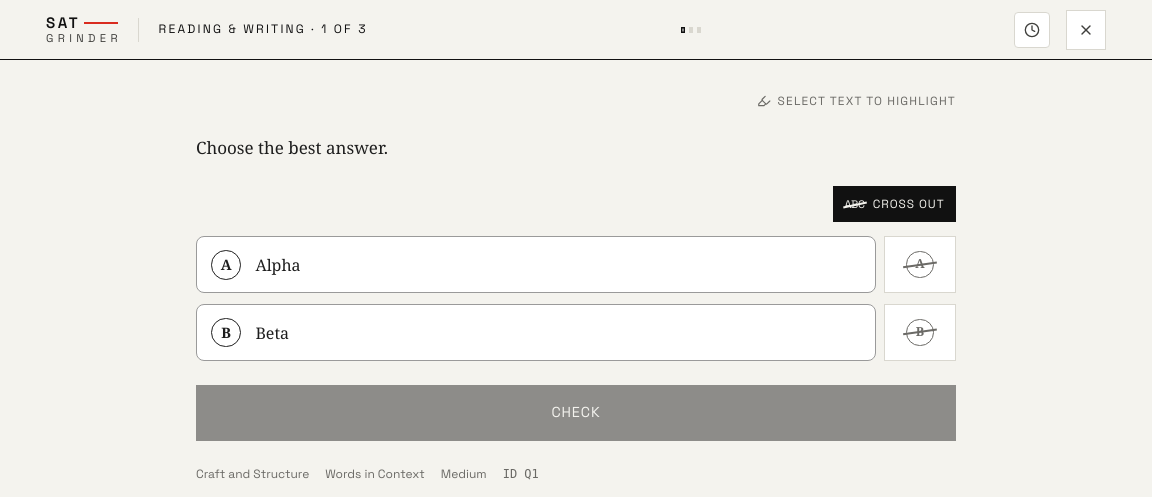
Scenario: SetCard › crosses out a choice, clears it if selected, and remembers it for the session
Click the radio button labelled "B Beta".
click(272, 333)  # box [196,304,876,361]
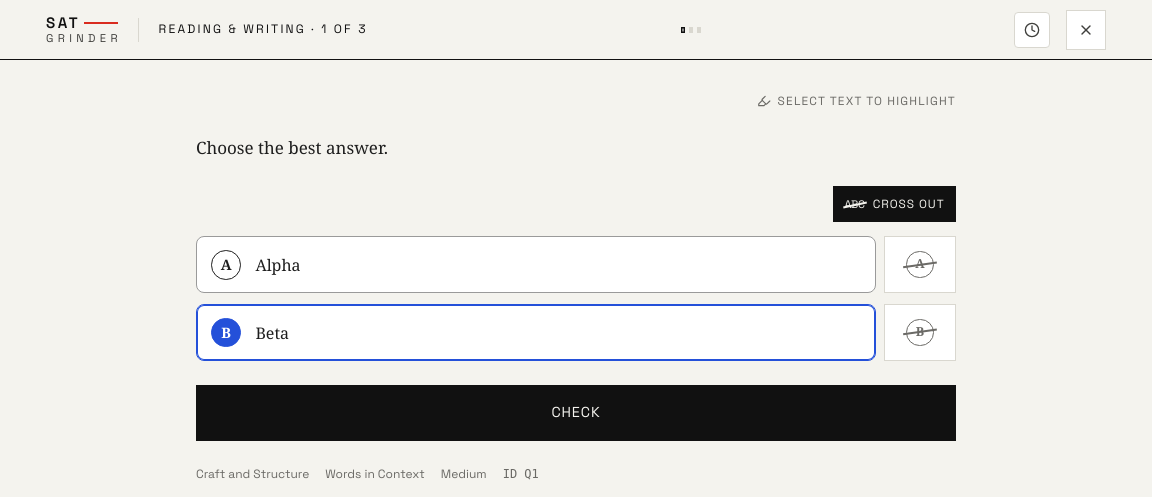
Expected: the button "Check" is enabled, [196,385,956,441]
Click the button named "Cross out choice B".
click(920, 332)  # box [884,304,956,361]
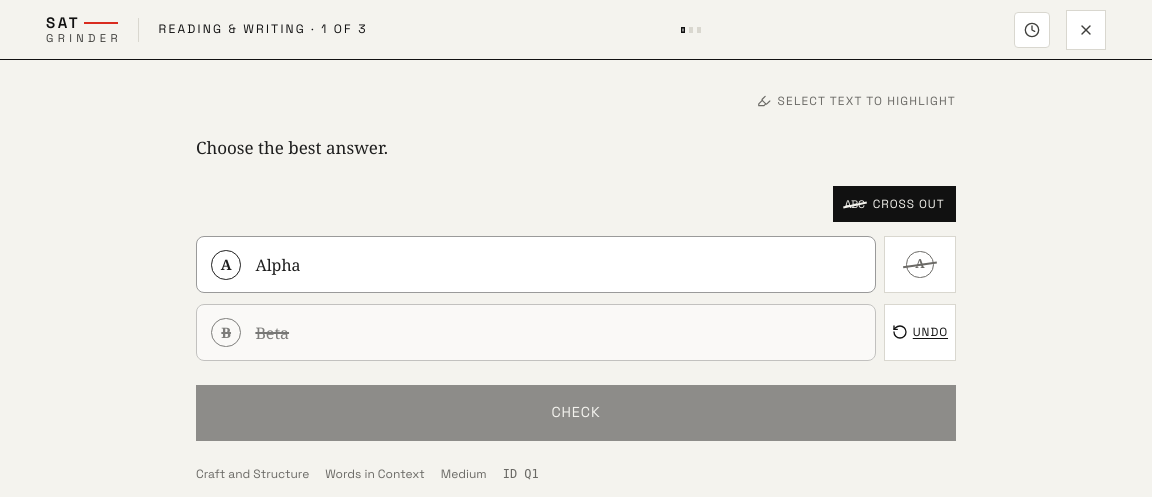
Expected: the radio button labelled "B Beta" is not checked, [196,304,876,361]
Expected: the radio button labelled "B Beta" is disabled, [196,304,876,361]
Expected: the button "Check" is disabled, [196,385,956,441]
Click the button with aria-label "Undo elimination of choice B".
click(920, 332)  # box [884,304,956,361]
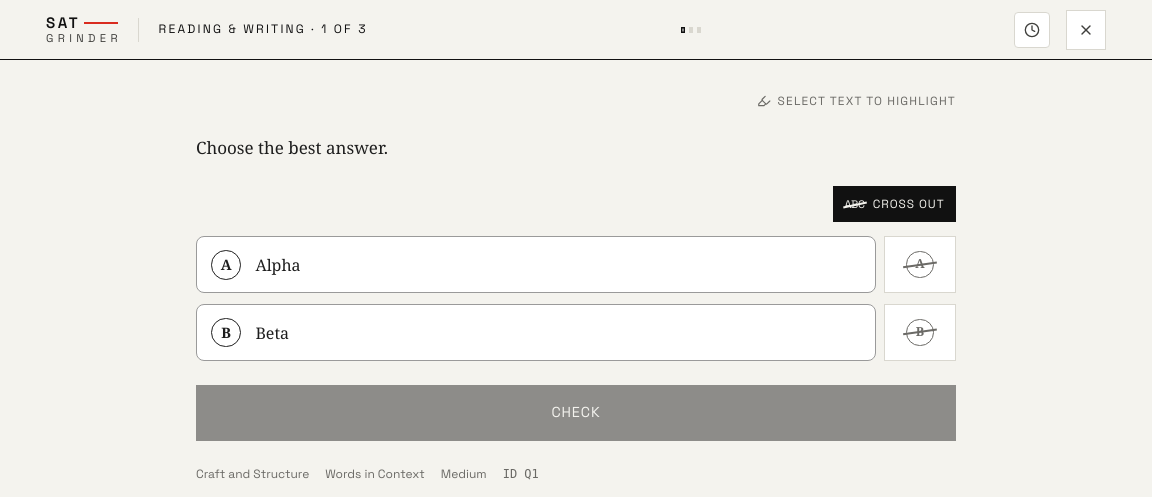
Expected: the radio button labelled "B Beta" is enabled, [196,304,876,361]
